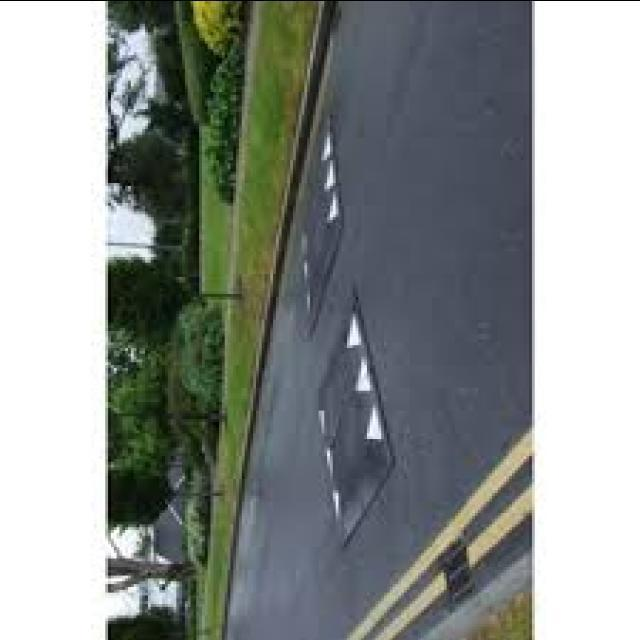speedbreaker: (294, 125, 412, 614)
